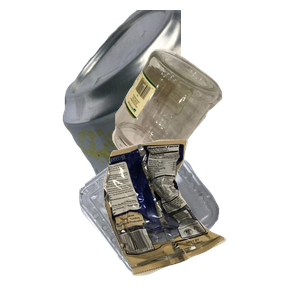glass: (110, 46, 300, 205)
metal: (60, 10, 300, 190)
plastic: (77, 133, 289, 300)
trash: (101, 137, 300, 300)
